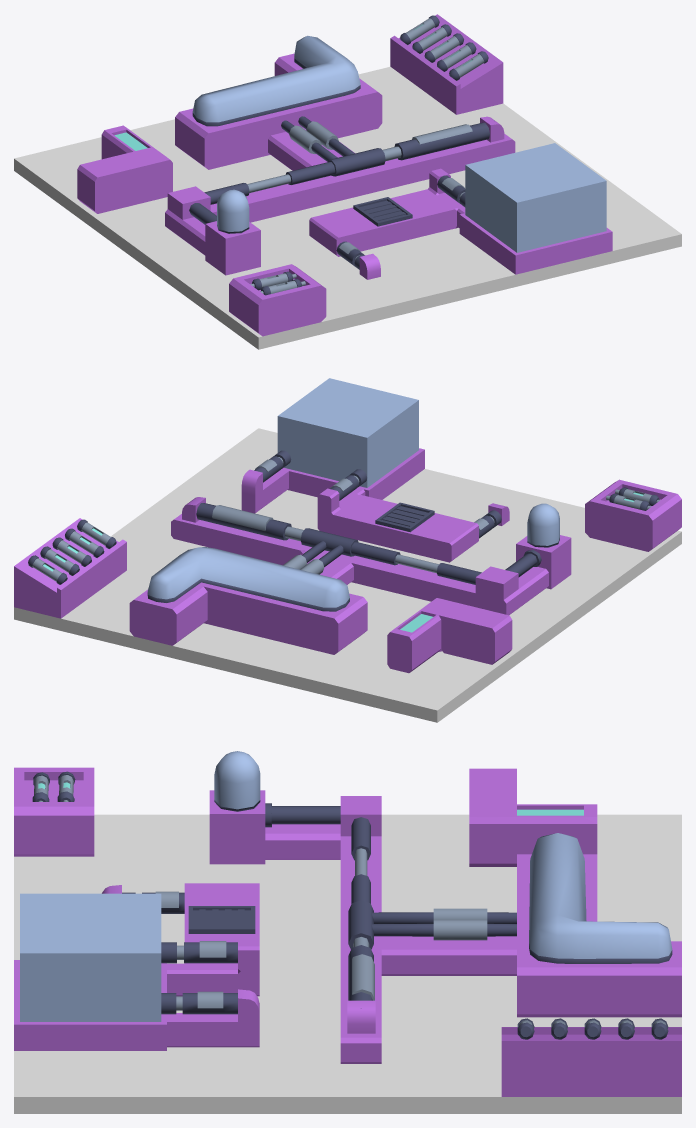
Rendered from Platform01.fbx.
The picture shows the model from 3 angles, top to bottom: view 1: azimuth 30°, elevation 25°; view 2: azimuth 150°, elevation 25°; view 3: azimuth 270°, elevation 25°; orthographic projection. The views are drawn at different scales.
Parts seen in each view (by area): view 1: Cube.031, Cube.064, Cube.070, Cube.069, Cube.068, Cube.071, Cube.075, Cube.061, Cube.072, Cube.076, Cube.062, Cylinder.031 (+6 smaller); view 2: Cube.031, Cube.064, Cube.069, Cube.070, Cube.068, Cube.071, Cube.075, Cube.061, Cube.072, Cube.076, Cylinder.031, Cube.062 (+8 smaller); view 3: Cube.031, Cube.064, Cube.070, Cube.061, Cube.069, Cube.071, Cube.075, Cube.068, Cube.076, Cube.072, Cube.062, Plane.004 (+11 smaller).
Boxes of the visible parts, left/top/right/bottom form: Cube.031: left=14, top=66, right=681, bottom=349; Cube.064: left=465, top=143, right=606, bottom=252; Cube.070: left=165, top=127, right=515, bottom=255; Cube.069: left=175, top=53, right=382, bottom=169; Cube.068: left=309, top=168, right=465, bottom=256; Cube.071: left=192, top=35, right=360, bottom=122; Cube.075: left=77, top=125, right=172, bottom=213; Cube.061: left=390, top=14, right=503, bottom=114; Cube.072: left=189, top=120, right=494, bottom=224; Cube.076: left=229, top=264, right=326, bottom=336; Cube.062: left=459, top=213, right=612, bottom=274; Cylinder.031: left=400, top=15, right=488, bottom=80; Cube.031: left=14, top=428, right=681, bottom=722; Cube.064: left=277, top=378, right=418, bottom=487; Cube.069: left=129, top=582, right=367, bottom=654; Cube.070: left=171, top=514, right=548, bottom=615; Cube.068: left=317, top=486, right=478, bottom=562; Cube.071: left=147, top=547, right=349, bottom=607; Cube.075: left=387, top=598, right=512, bottom=673; Cube.061: left=14, top=518, right=126, bottom=618; Cube.072: left=196, top=503, right=541, bottom=584; Cube.076: left=585, top=479, right=681, bottom=551; Cylinder.031: left=28, top=519, right=116, bottom=584; Cube.062: left=287, top=448, right=424, bottom=499; Cube.031: left=14, top=814, right=681, bottom=1113; Cube.064: left=20, top=893, right=161, bottom=1021; Cube.070: left=265, top=796, right=516, bottom=1063; Cube.061: left=501, top=1027, right=681, bottom=1096; Cube.069: left=517, top=854, right=681, bottom=1017; Cube.071: left=529, top=833, right=672, bottom=958; Cube.075: left=469, top=768, right=597, bottom=866; Cube.068: left=161, top=883, right=259, bottom=996; Cube.076: left=14, top=767, right=94, bottom=856; Cube.072: left=265, top=803, right=374, bottom=1008; Cube.062: left=14, top=960, right=166, bottom=1050; Plane.004: left=372, top=908, right=516, bottom=940.
Bounding box in the file's own units: 900 × 173 × 900.
